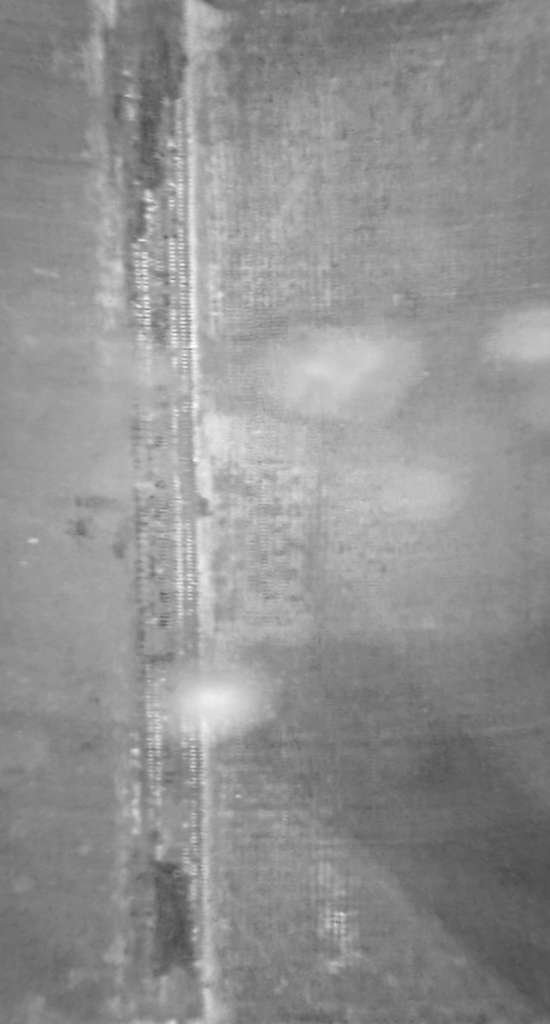splice: (94, 1, 214, 1024)
